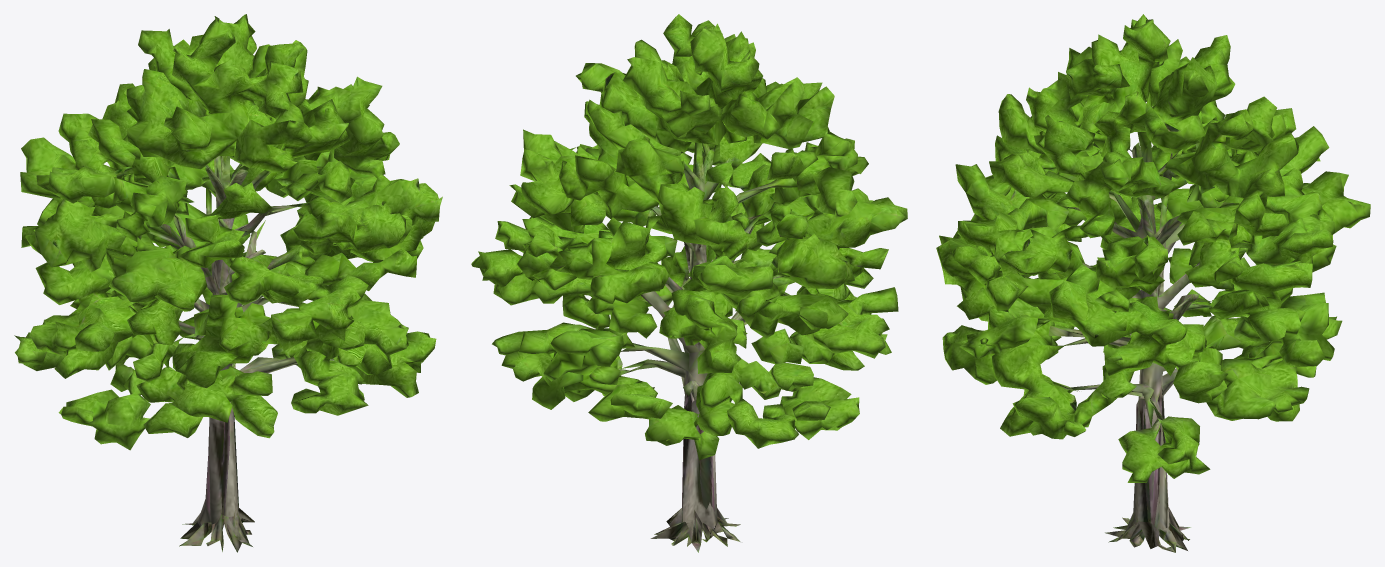
The model's file is tree.glb.
3 views of the same model, side by side, from view 1: azimuth 30°, elevation 25°; view 2: azimuth 150°, elevation 25°; view 3: azimuth 270°, elevation 25° (orthographic). The views are drawn at different scales.
Parts seen in each view (by area): view 1: Mesh_0; view 2: Mesh_0; view 3: Mesh_0.
Part boxes in pixels (left/top/right/bottom): Mesh_0: left=14, top=14, right=442, bottom=552; Mesh_0: left=471, top=14, right=907, bottom=552; Mesh_0: left=936, top=14, right=1370, bottom=552.
Size of the model in its own units: 1.46 by 1.88 by 1.43.
Materials: 1 (1 with a texture image).
